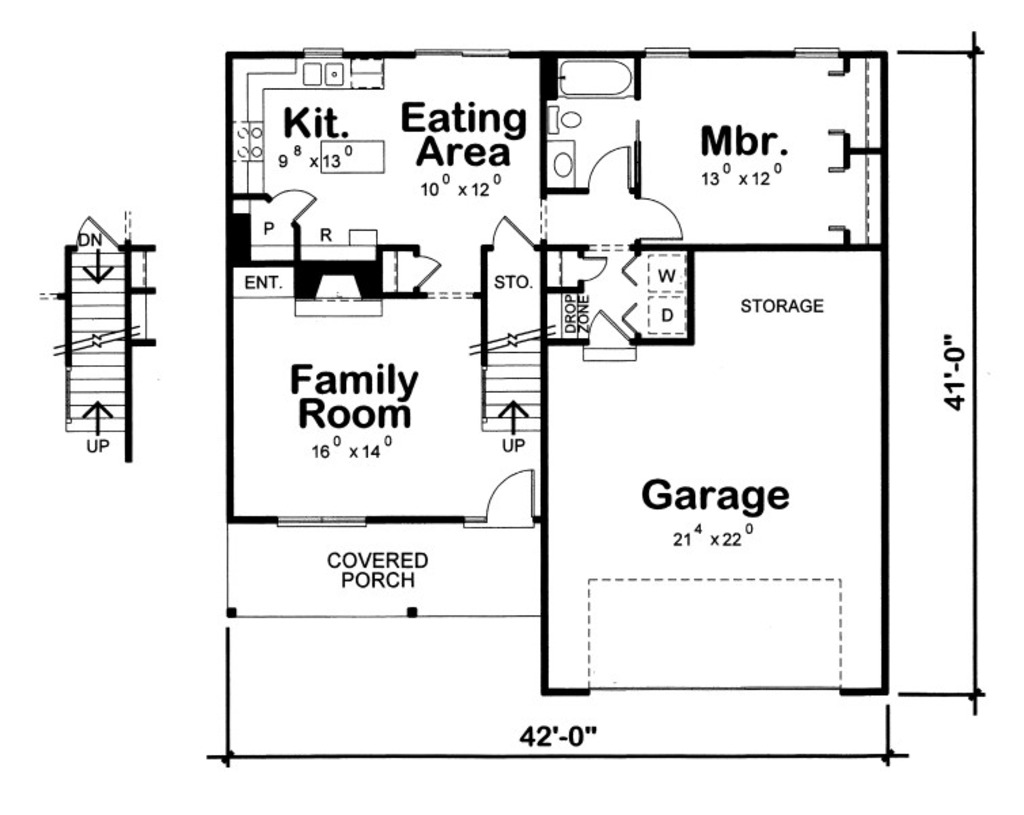door: (457, 467, 559, 550), (581, 142, 641, 197), (634, 188, 689, 242), (584, 307, 632, 366), (267, 179, 318, 233), (396, 247, 447, 296), (64, 210, 127, 249), (565, 247, 610, 287), (491, 212, 536, 249)
large_sink: (544, 94, 588, 136)
small_sink: (541, 135, 576, 192)
stairs: (59, 250, 157, 473), (480, 249, 541, 439)
tub: (553, 50, 641, 93)
twin_sink: (297, 56, 353, 88)
window: (264, 503, 376, 525), (417, 44, 518, 60), (637, 45, 701, 67), (788, 40, 838, 62), (301, 39, 344, 56)
